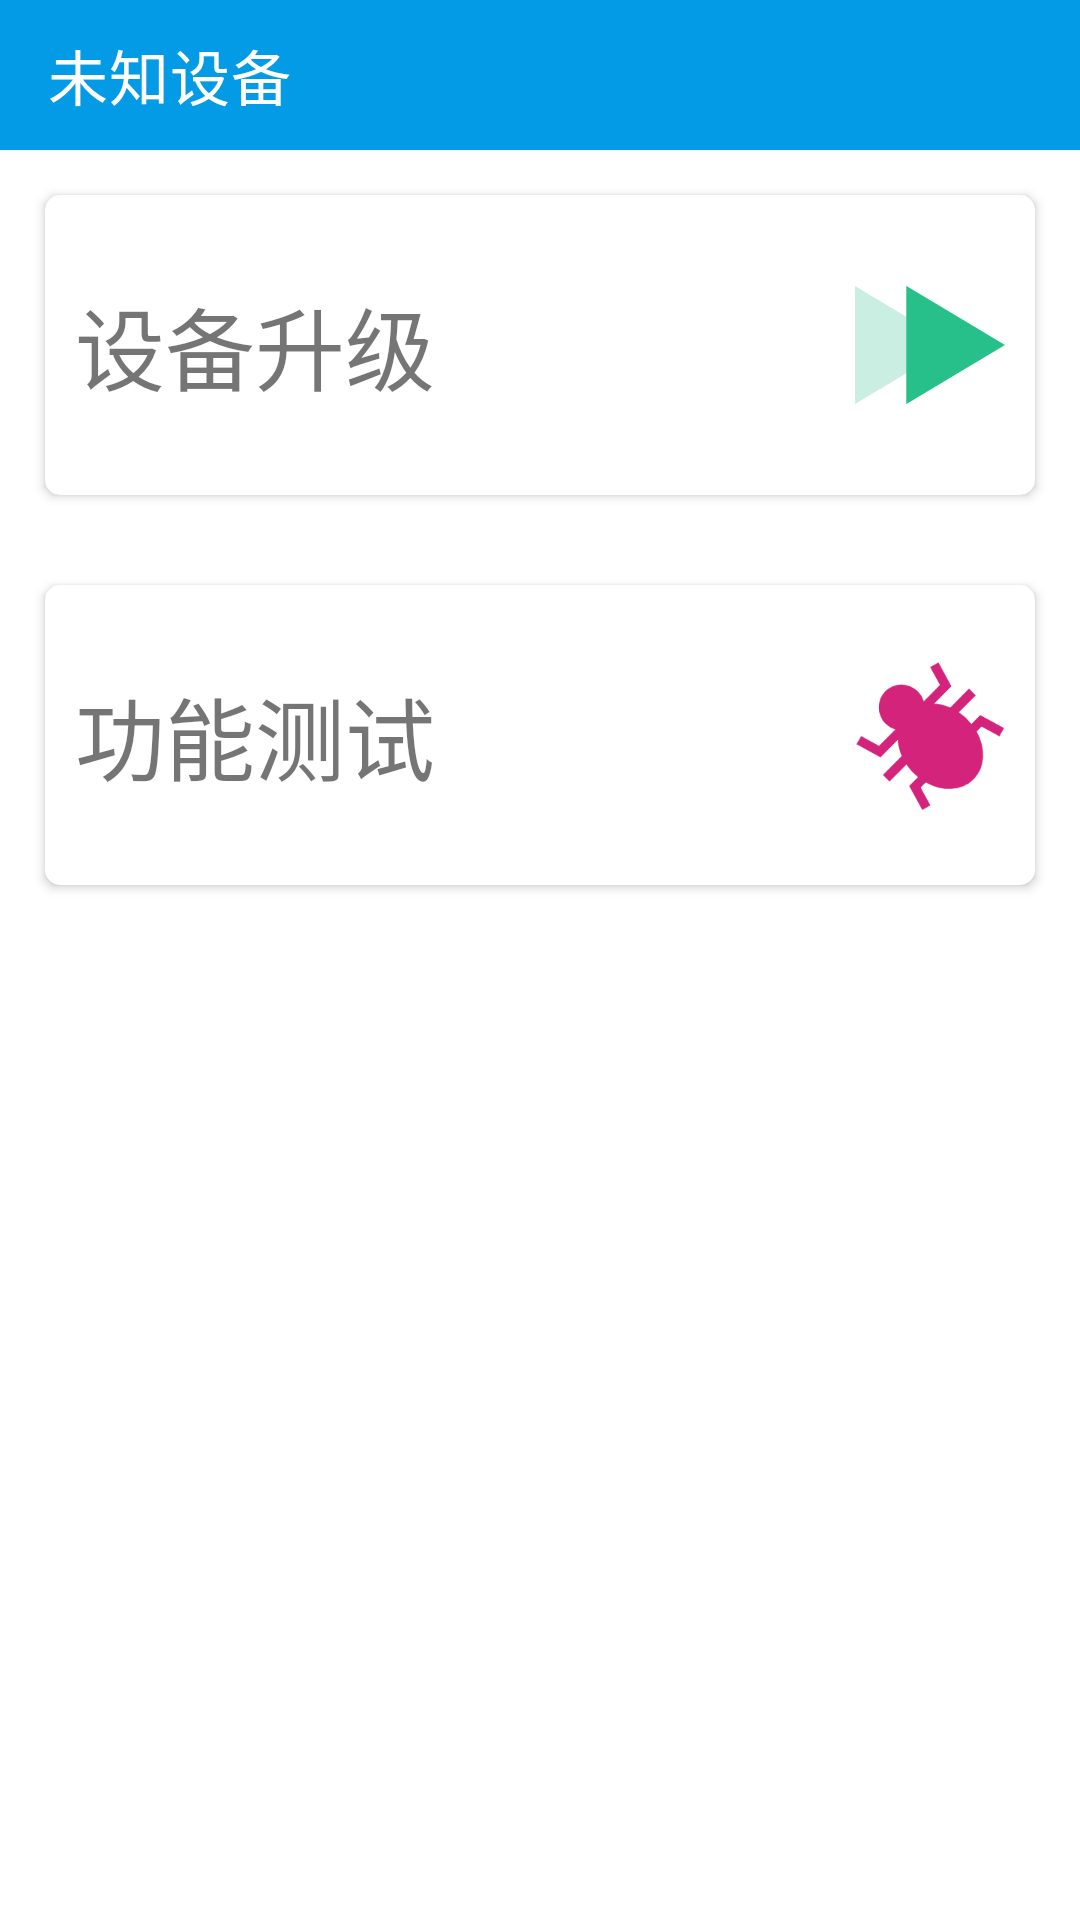

Screen size 1080x1920. Icon name, then its box in pixels as (x1, y1, x2, y2):
debug pic: (856, 662, 1004, 810)
